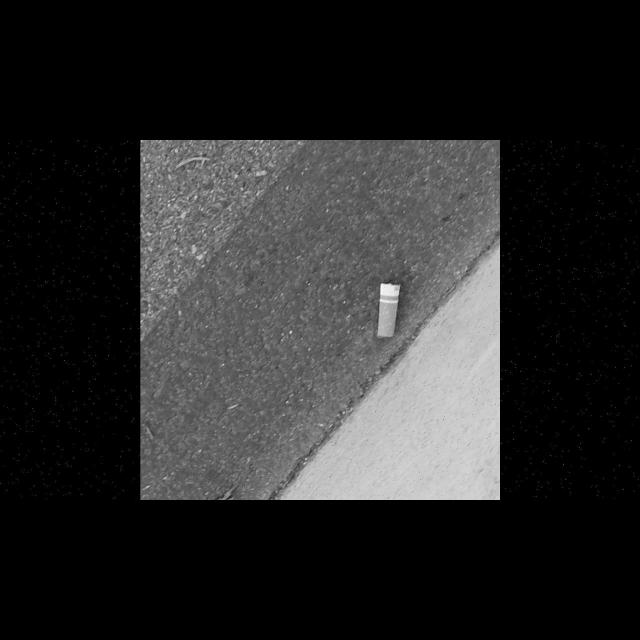cigarette: (375, 282, 401, 340)
